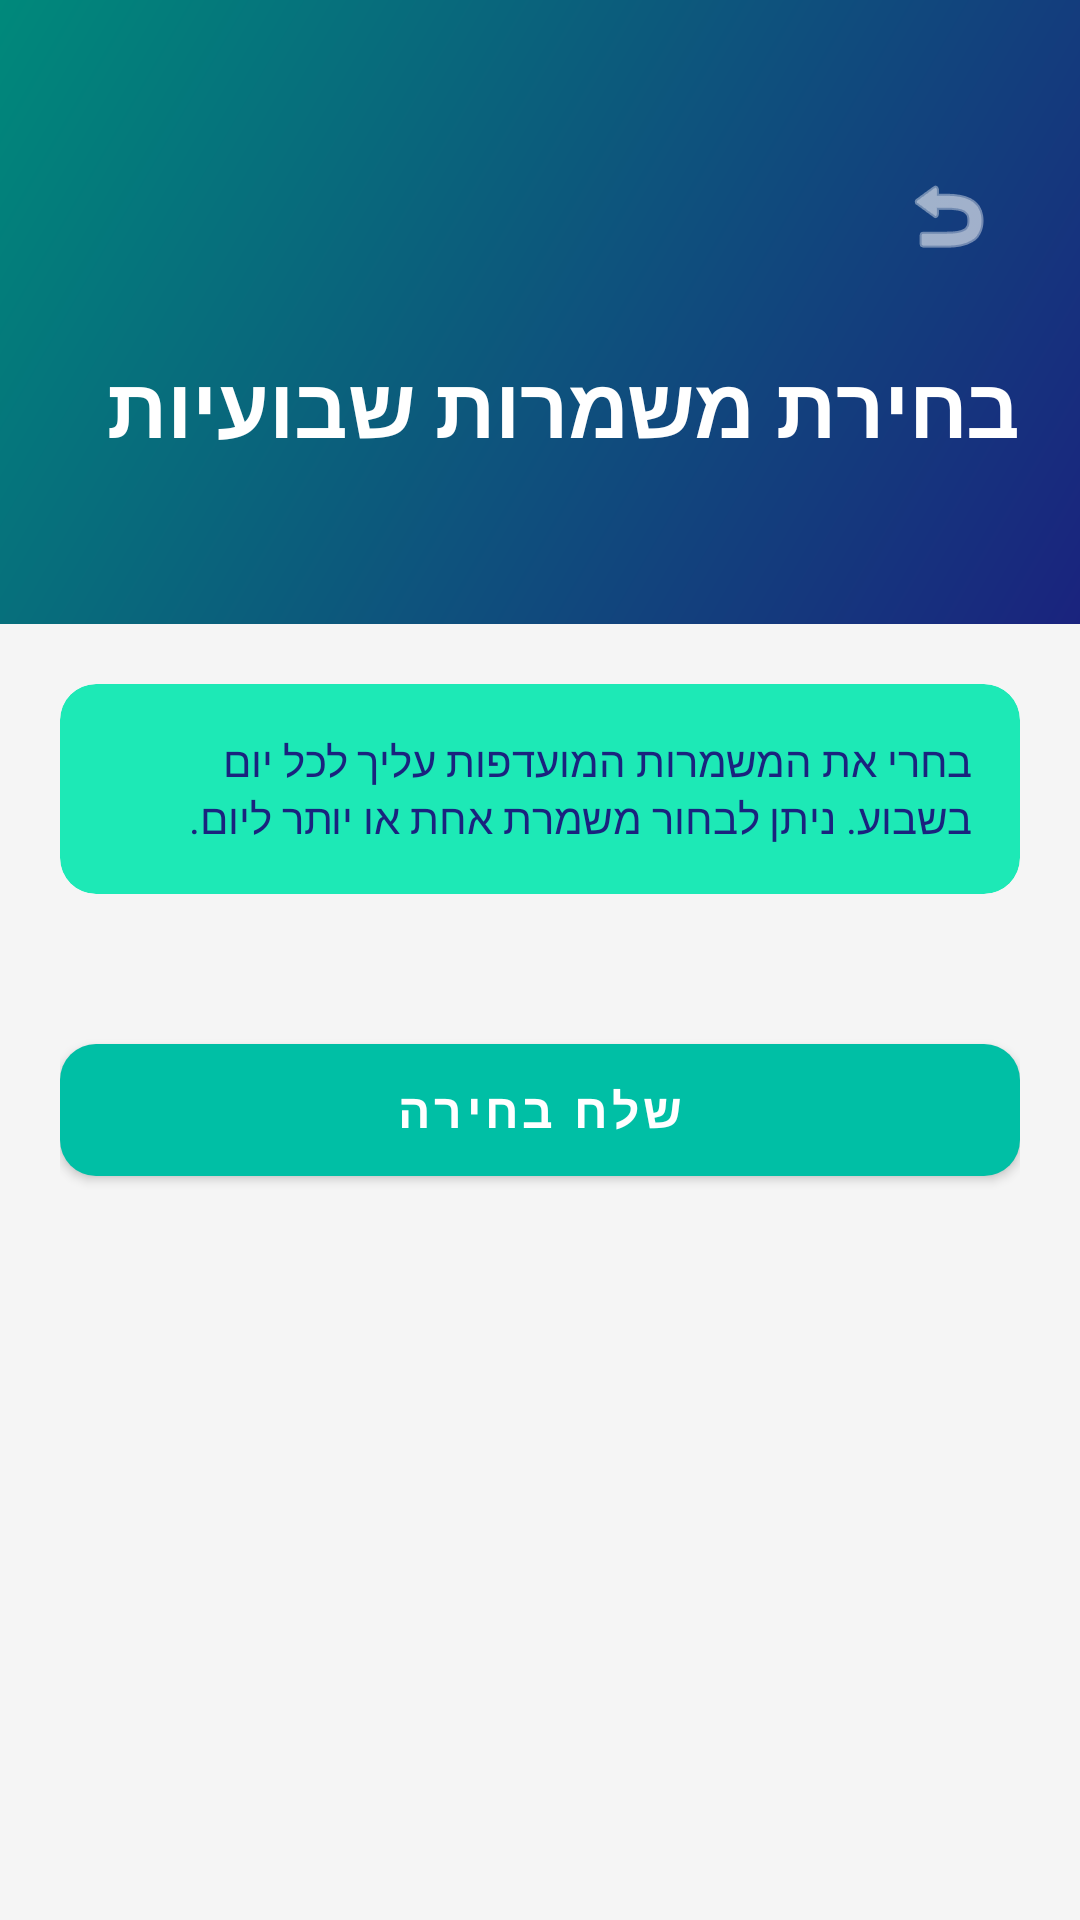

Where to tap for icons on this 1080 x 1920 app screen, as (x=x, y=y):
חזור: (x=949, y=216)
